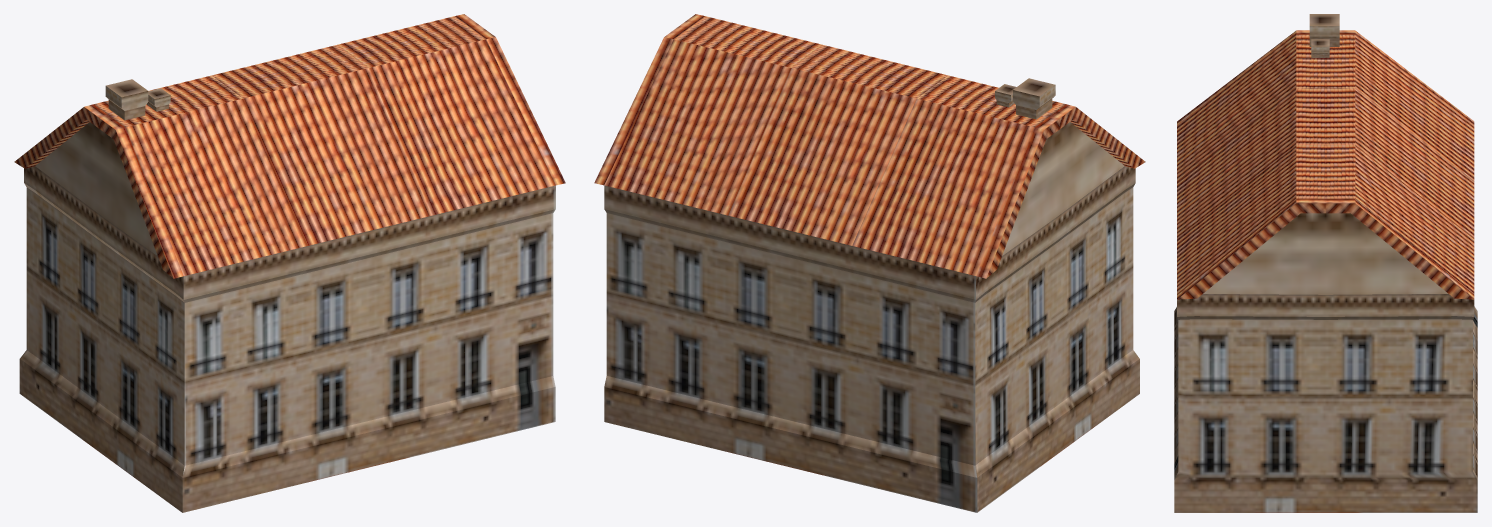
Rendered from Mesh_BuildingTypeA.fbx.
3 views of the same model, side by side, from view 1: azimuth 30°, elevation 25°; view 2: azimuth 150°, elevation 25°; view 3: azimuth 270°, elevation 25° (orthographic). The views are drawn at different scales.
Parts seen in each view (by area): view 1: Box003; view 2: Box003; view 3: Box003.
Boxes of the visible parts, box(x1,y1,x2,y2) form: Box003: box(14, 14, 565, 512); Box003: box(594, 14, 1145, 512); Box003: box(1174, 14, 1477, 512).
Bounding box in the file's own units: 747 × 655 × 537.
